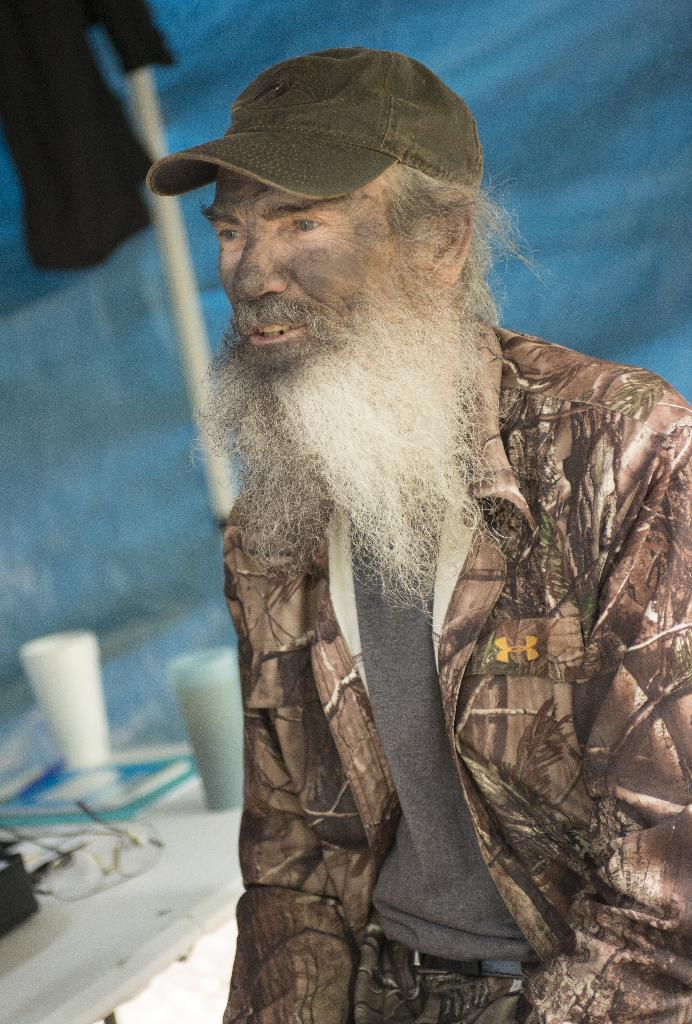Hat: (148, 44, 482, 194)
